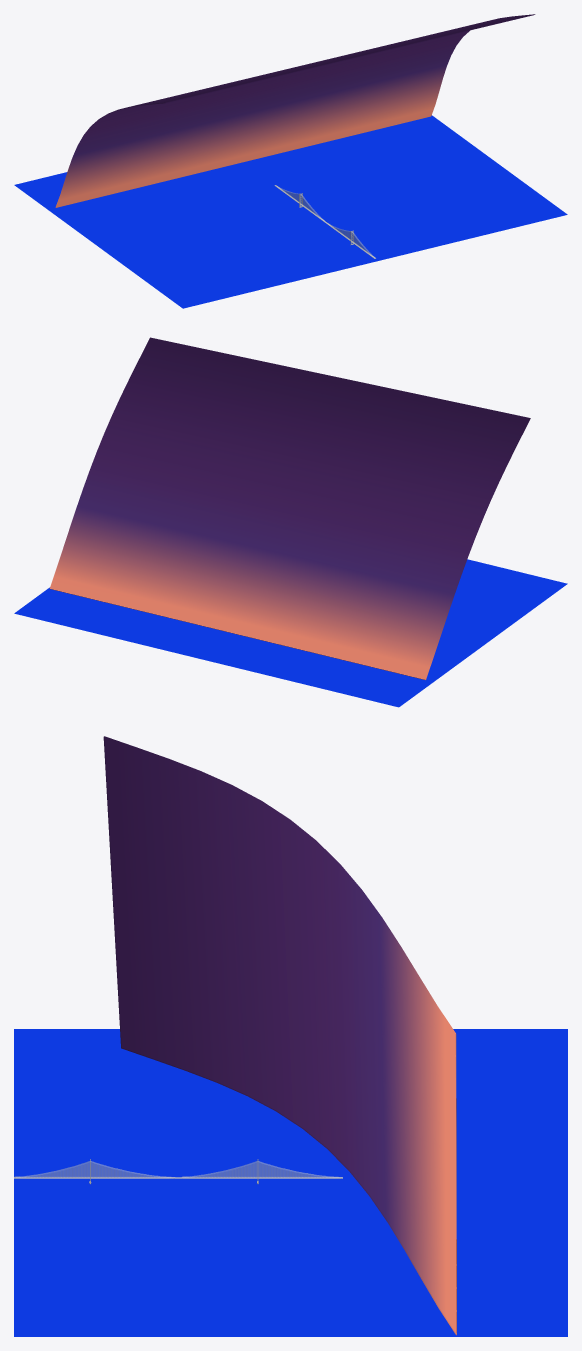
File: asset.glb
The picture shows the model from 3 angles, top to bottom: view 1: azimuth 30°, elevation 25°; view 2: azimuth 150°, elevation 25°; view 3: azimuth 270°, elevation 25°; orthographic projection. The views are drawn at different scales.
Visible parts, largest first — view 1: umi, 曲面 3, turibasi; view 2: 曲面 3, umi; view 3: umi, 曲面 3, turibasi.
Part boxes in pixels (x1,y1,x2,y2): umi: (14,115,567,308); 曲面 3: (55,14,535,207); turibasi: (275,185,375,258); 曲面 3: (49,337,530,680); umi: (14,559,567,707); umi: (14,1029,567,1336); 曲面 3: (103,736,456,1335); turibasi: (14,1160,342,1178).
Bounding box in the file's own units: 0.8 × 0.3643 × 0.6082.
Materials: 4 (2 with a texture image).
